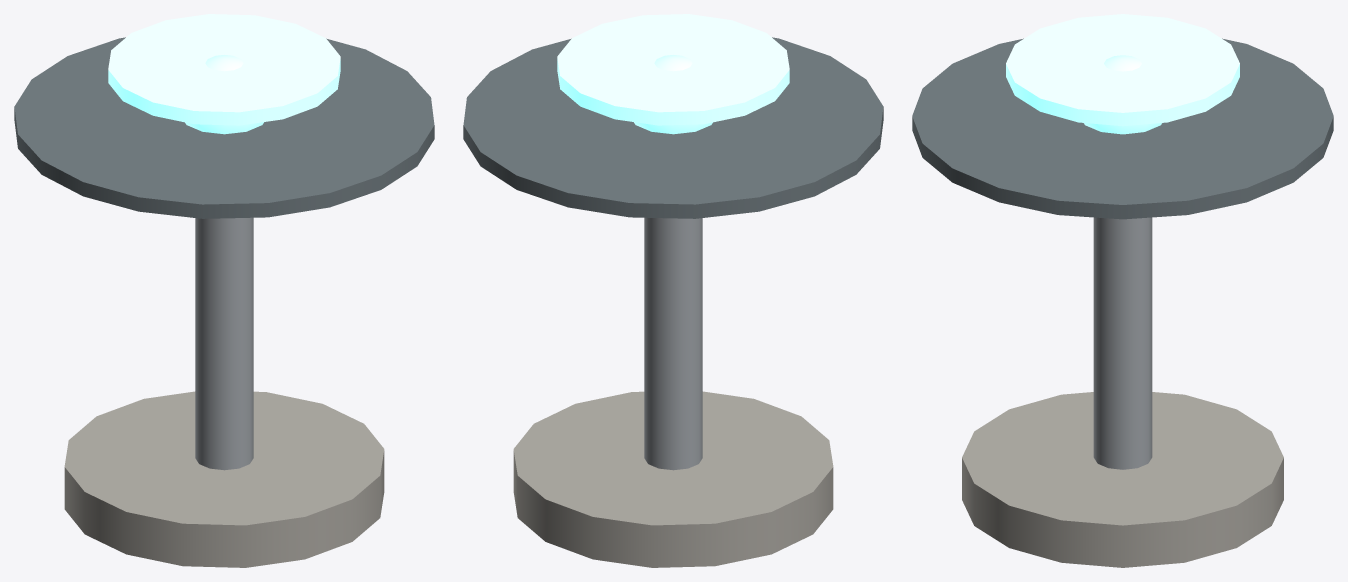
File: repair_beacon.glb
The picture shows the model from 3 angles, left to right: view 1: azimuth 30°, elevation 25°; view 2: azimuth 150°, elevation 25°; view 3: azimuth 270°, elevation 25°; orthographic projection.
Parts seen in each view (by area): view 1: Dish, Foot, Halo, Stem, Hub; view 2: Dish, Foot, Halo, Stem, Hub; view 3: Dish, Foot, Halo, Stem, Hub.
Part boxes in pixels (x1,y1,x2,y2): Dish: (14,37,434,218); Foot: (64,391,384,567); Halo: (108,14,340,125); Stem: (195,217,253,470); Hub: (185,55,263,134); Dish: (463,37,883,218); Foot: (513,391,833,567); Halo: (557,14,789,125); Stem: (644,217,702,470); Hub: (634,55,712,134); Dish: (912,38,1333,219); Foot: (962,392,1283,567); Halo: (1006,14,1239,126); Stem: (1093,217,1152,469); Hub: (1084,55,1161,134).
Size of the model in its own units: 1.44 by 1.66 by 1.44.
